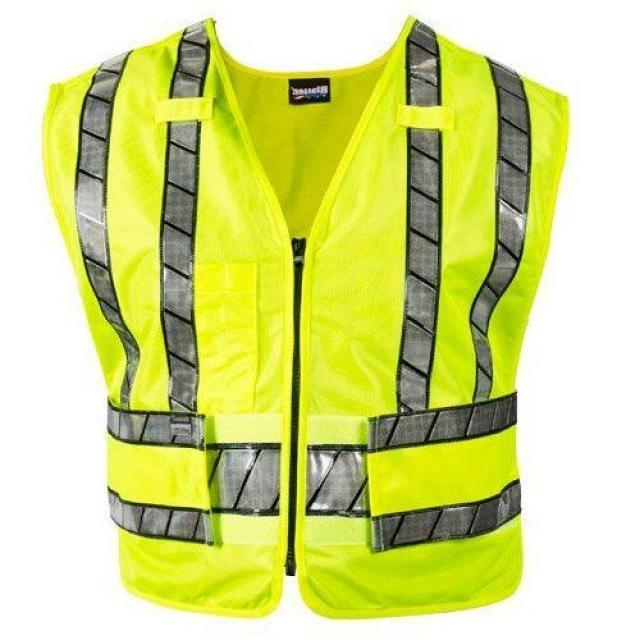reflective_jacket: (20, 4, 588, 639)
